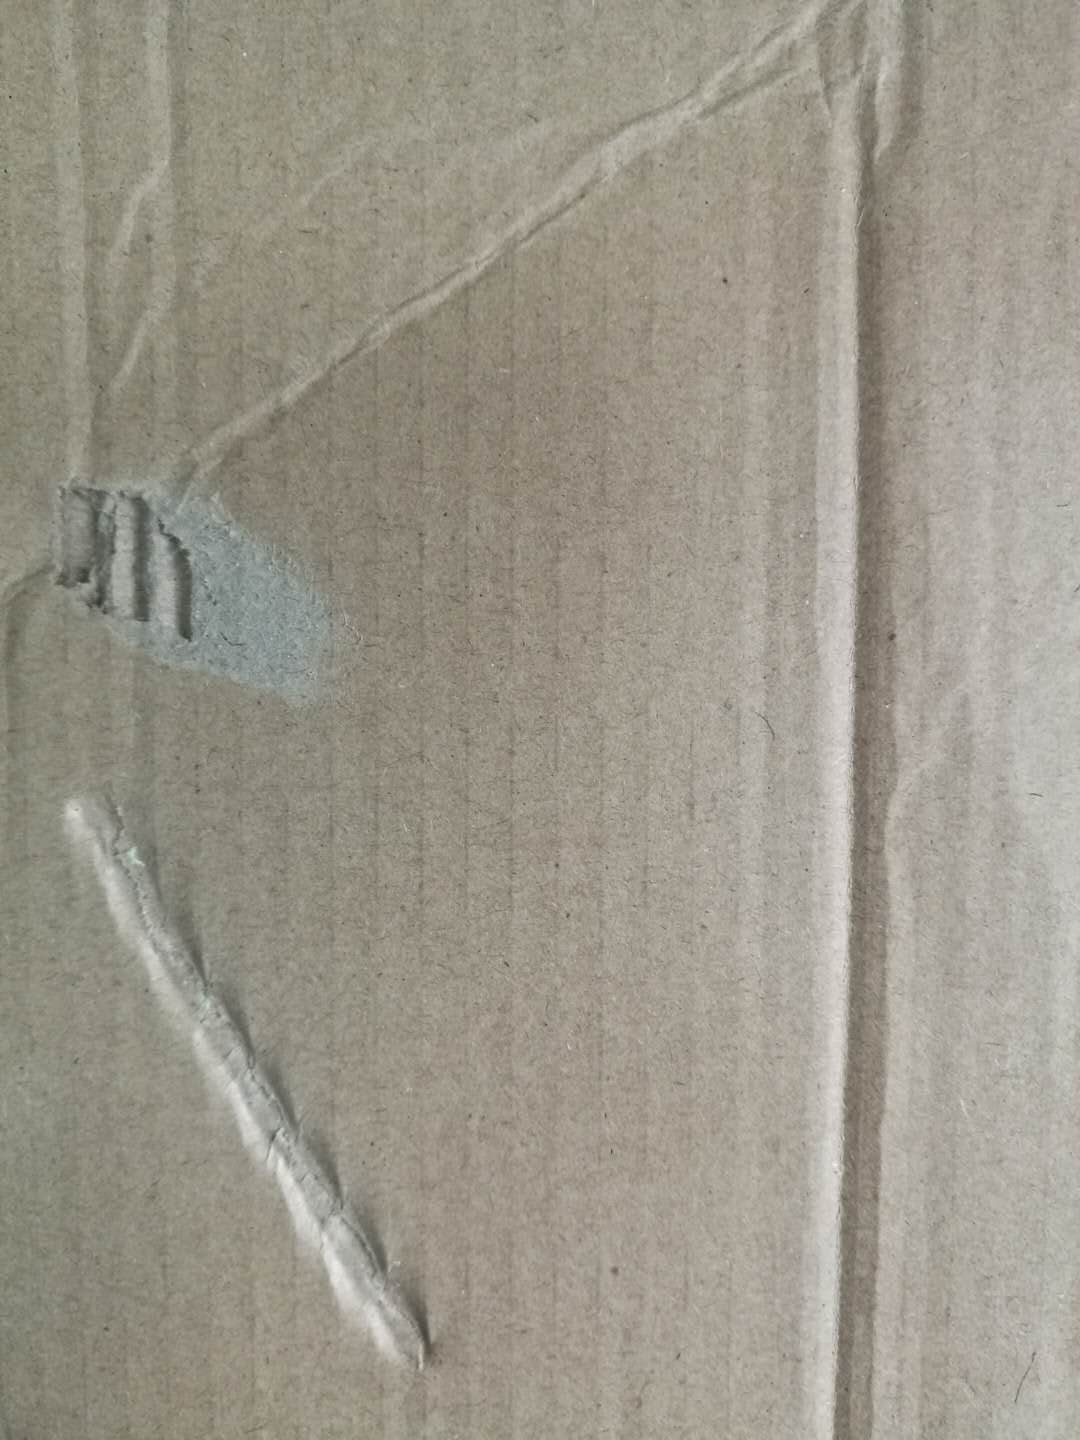defect: (2, 5, 1040, 674), (752, 2, 985, 1440), (34, 768, 493, 1384), (23, 421, 393, 748)
